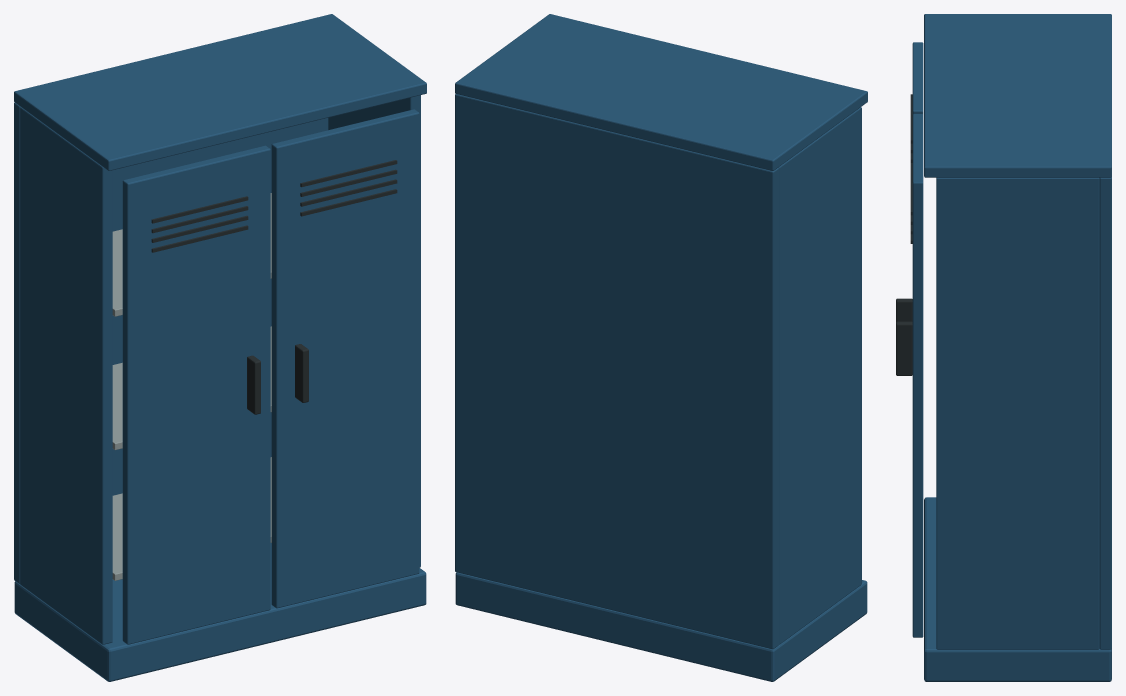
3 views of the same model, side by side, from view 1: azimuth 30°, elevation 25°; view 2: azimuth 150°, elevation 25°; view 3: azimuth 270°, elevation 25° (orthographic).
Visible parts, largest first — view 1: Left_Door, Right_Door, CABINET_Side.001, CABINET_Top, CABINET_Base, CABINET_Back, CABINET_Side, CABINET_Shelf_1, CABINET_Shelf_0, CABINET_Shelf_2, Left_Handle, Right_Handle; view 2: CABINET_Back, CABINET_Side.001, CABINET_Top, CABINET_Base; view 3: CABINET_Side, CABINET_Top, CABINET_Base, Right_Door, CABINET_Back, Right_Handle, Left_Door, Left_Handle.
Part boxes in pixels (box(x1,y1,x2,y2)): Left_Door: box(122, 145, 270, 644); Right_Door: box(271, 109, 419, 608); CABINET_Side.001: box(20, 107, 112, 644); CABINET_Top: box(14, 14, 426, 170); CABINET_Base: box(14, 543, 426, 681); CABINET_Back: box(14, 102, 328, 583); CABINET_Side: box(328, 95, 420, 567); CABINET_Shelf_1: box(112, 326, 271, 450); CABINET_Shelf_0: box(112, 457, 271, 580); CABINET_Shelf_2: box(112, 193, 271, 316); Left_Handle: box(247, 355, 260, 414); Right_Handle: box(295, 344, 308, 402); CABINET_Back: box(455, 94, 778, 649); CABINET_Side.001: box(778, 107, 861, 644); CABINET_Top: box(455, 14, 867, 170); CABINET_Base: box(455, 572, 867, 681); CABINET_Side: box(936, 177, 1099, 649); CABINET_Top: box(924, 14, 1111, 177); CABINET_Base: box(924, 497, 1111, 681); Right_Door: box(912, 114, 923, 637); CABINET_Back: box(1099, 176, 1111, 649); Right_Handle: box(896, 321, 912, 375); Left_Door: box(912, 42, 923, 114); Left_Handle: box(896, 298, 912, 322).
Bounding box in the file's own units: 1.2 × 1.88 × 0.7125.
